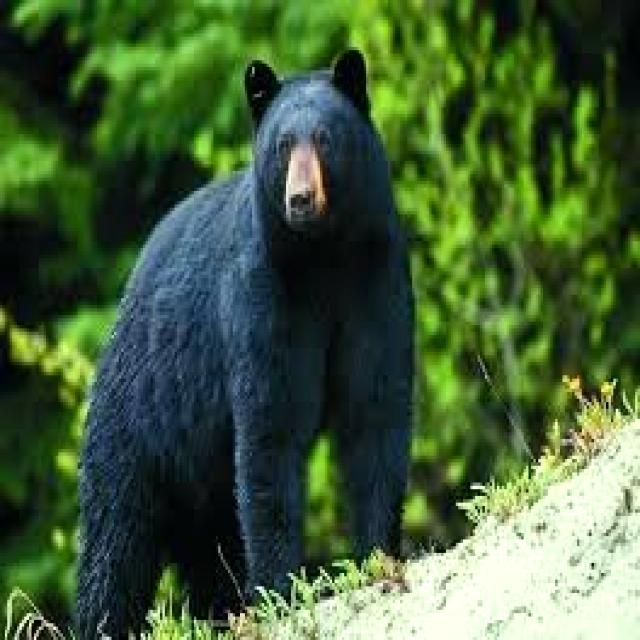bear: (96, 31, 424, 552)
